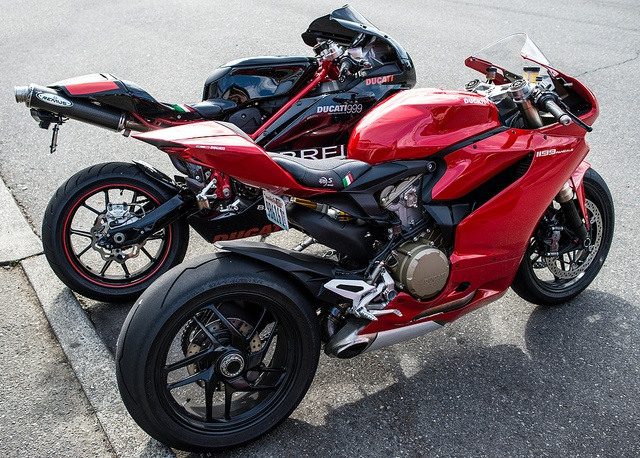non-vehicle: (111, 29, 616, 454), (15, 5, 417, 298)
